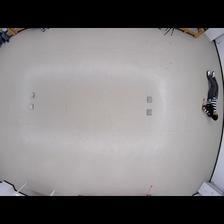fall: (202, 68, 221, 122)
